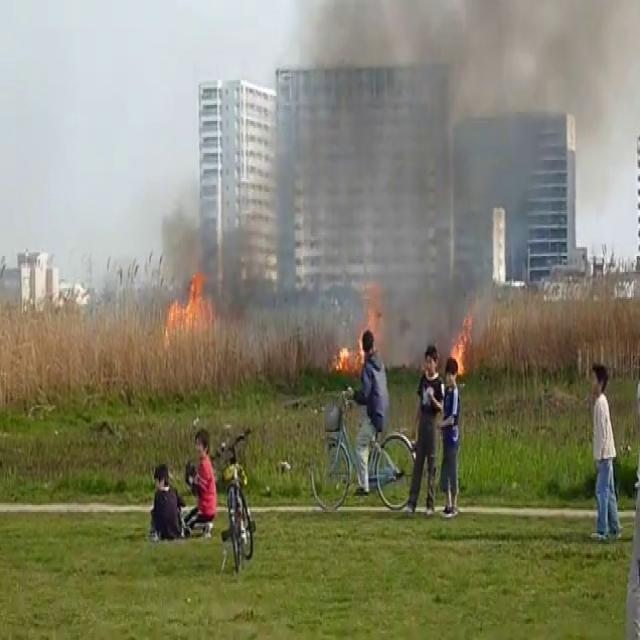Fire: (162, 261, 218, 345), (334, 304, 380, 366), (448, 308, 476, 382)
Smoke: (265, 0, 640, 345)
